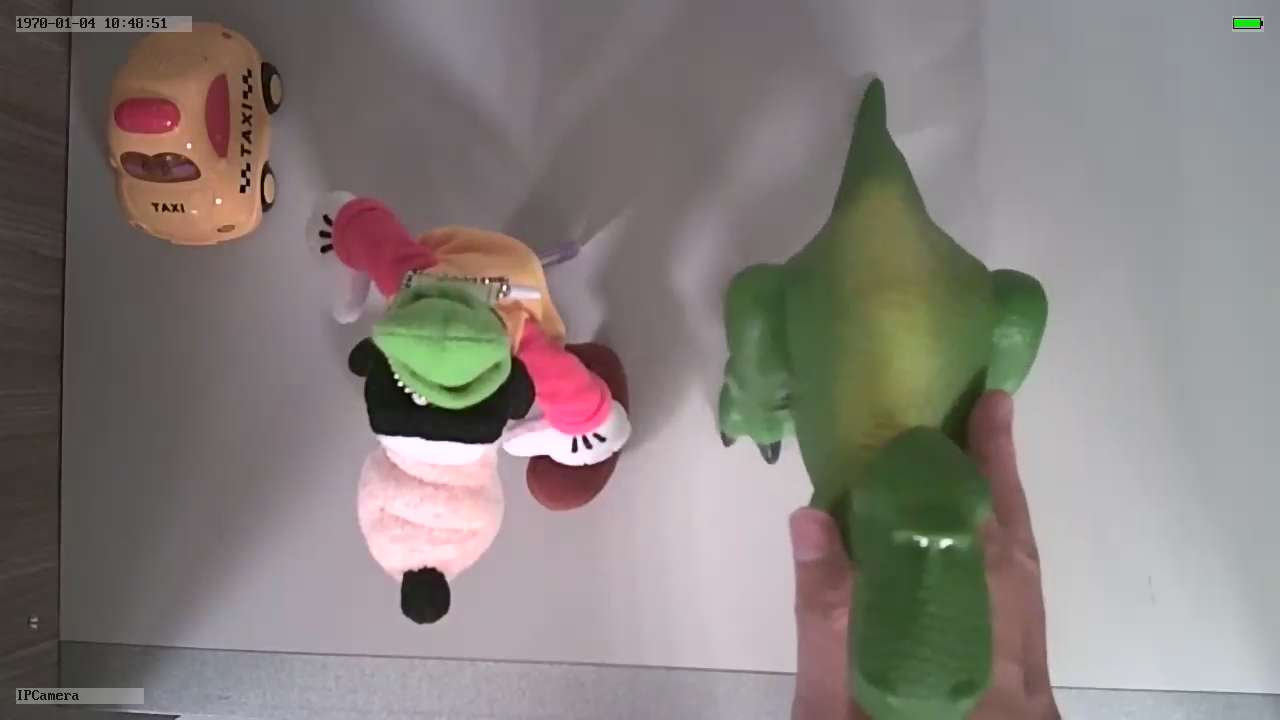goofy: (297, 193, 637, 630)
